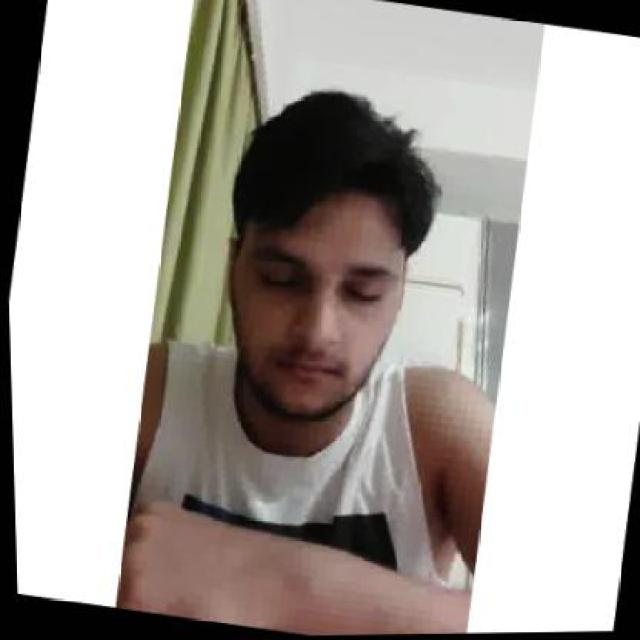inattentif: (190, 70, 435, 442)
